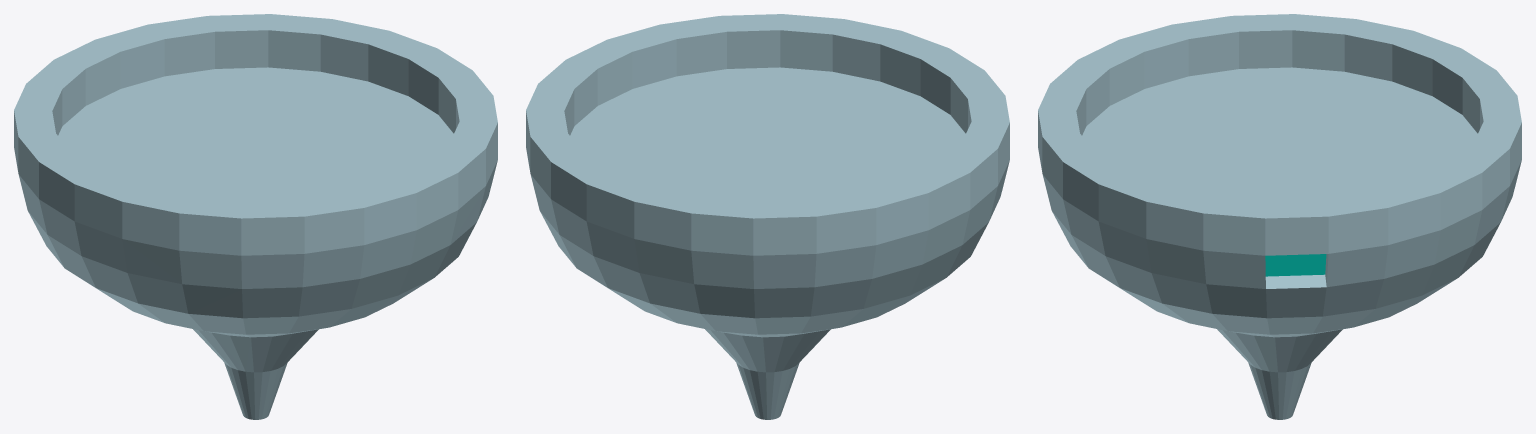
File: vase-06.fbx
The picture shows the model from 3 angles, left to right: view 1: azimuth 30°, elevation 25°; view 2: azimuth 150°, elevation 25°; view 3: azimuth 270°, elevation 25°; orthographic projection.
Parts seen in each view (by area): view 1: vase-06; view 2: vase-06; view 3: vase-06.
Boxes of the visible parts, bbox=[...] form: vase-06: bbox=[14, 14, 497, 419]; vase-06: bbox=[526, 14, 1009, 419]; vase-06: bbox=[1038, 14, 1521, 419].
Size of the model in its own units: 11.77 by 8 by 11.77.
